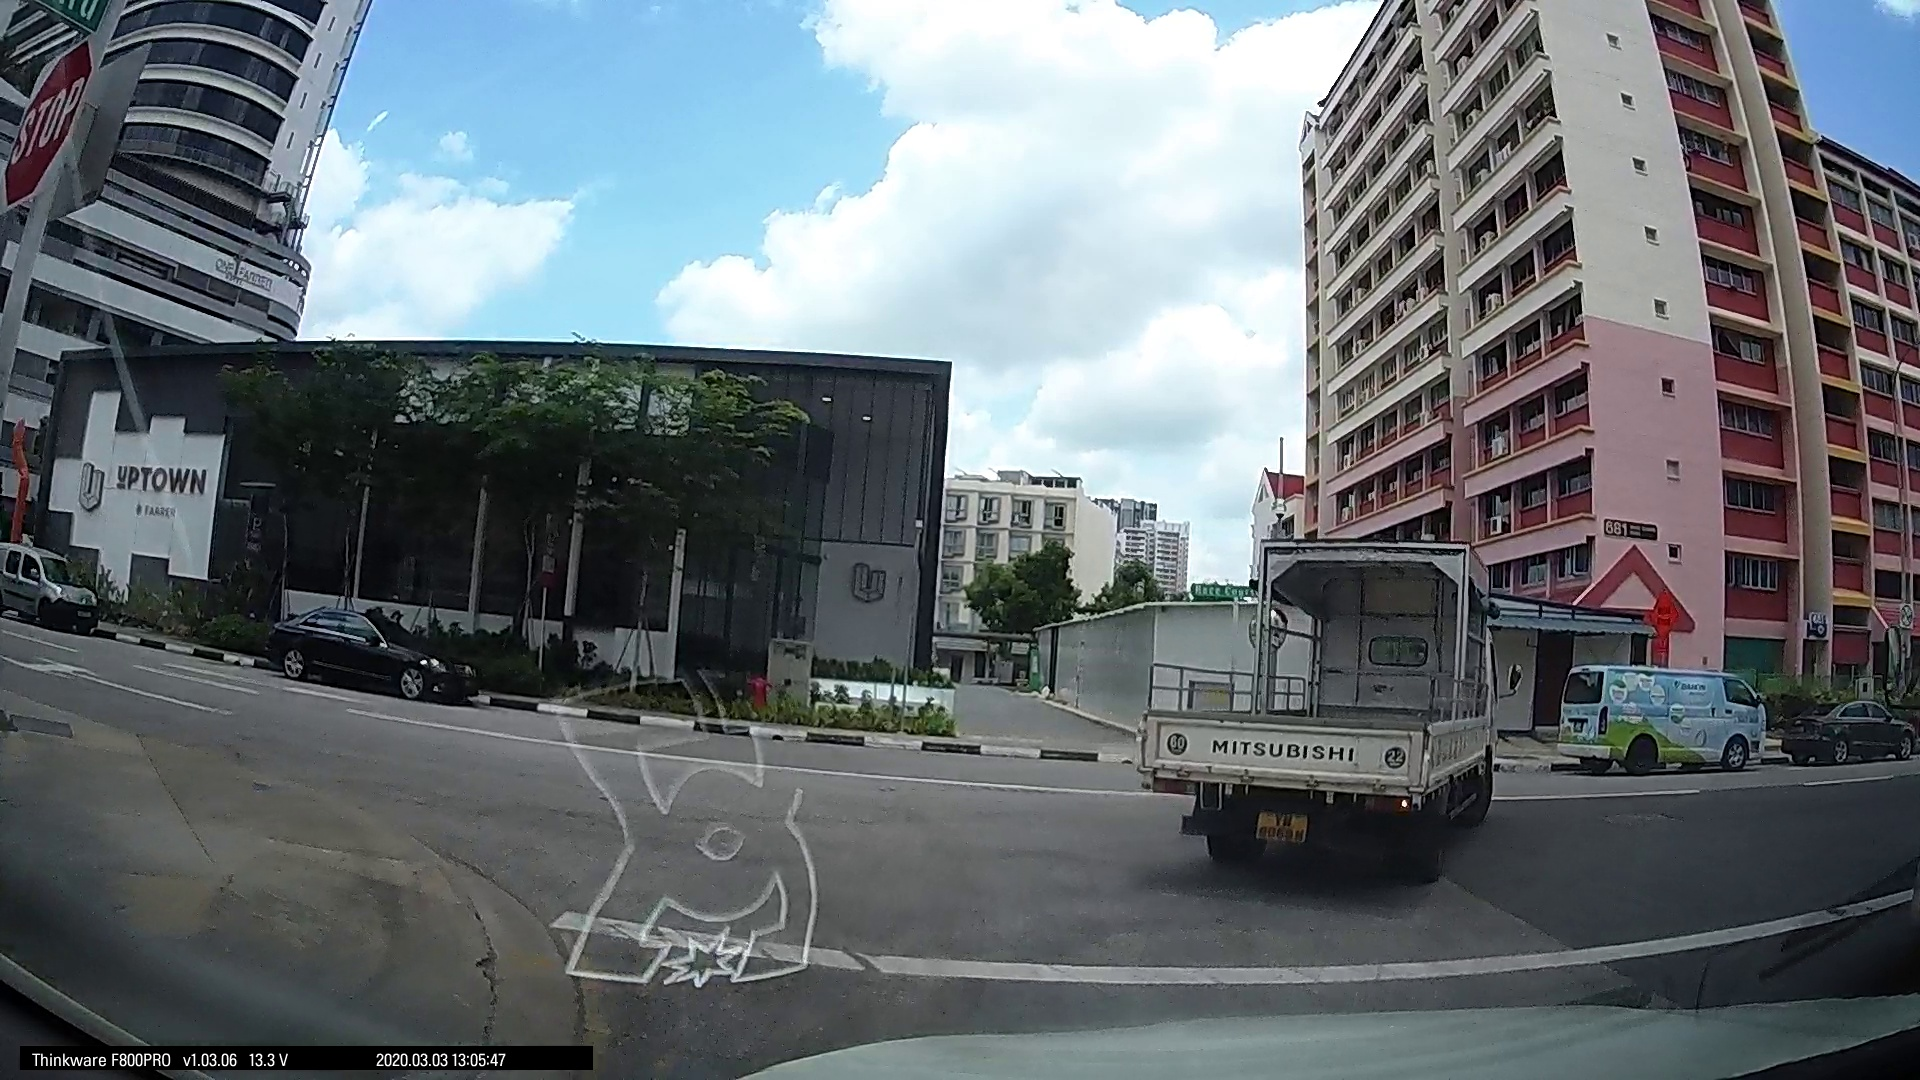Heavy Vehicle: (1131, 541, 1495, 874)
Light Vehicle: (1545, 659, 1775, 775), (266, 601, 464, 698), (1780, 694, 1912, 766), (1, 542, 102, 636)
